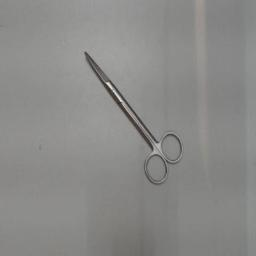Curved Mayo Scissors: (80, 46, 188, 192)
